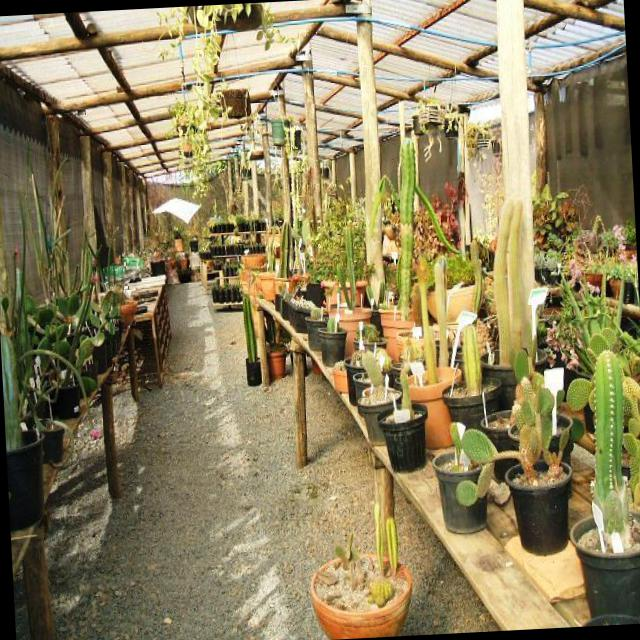cactus: (557, 276, 637, 411), (592, 350, 627, 540), (491, 196, 528, 366), (517, 387, 567, 476), (448, 419, 496, 506), (38, 322, 99, 383), (397, 137, 415, 319), (620, 378, 640, 508), (416, 268, 437, 384), (336, 225, 355, 312), (432, 255, 446, 366), (461, 324, 480, 392), (358, 350, 384, 394), (384, 515, 398, 578), (242, 295, 256, 357), (373, 496, 384, 573), (277, 219, 291, 279), (367, 572, 392, 605), (399, 368, 412, 416), (327, 315, 336, 333), (310, 306, 321, 316)
floor -X: (12, 248, 640, 640)
plant pot: (407, 365, 460, 449), (7, 436, 44, 527), (357, 386, 399, 443), (334, 306, 370, 356), (379, 313, 415, 360), (304, 316, 325, 349)
plant pot occlued: (308, 550, 411, 636), (570, 509, 640, 624), (505, 458, 571, 555), (434, 450, 485, 531), (376, 402, 428, 470), (444, 379, 498, 437), (319, 325, 347, 363), (56, 382, 78, 418), (245, 357, 260, 384)
plant pots: (479, 348, 546, 409)
plants: (312, 201, 368, 279)
shelf crop: (238, 271, 640, 626), (8, 311, 139, 640)
wall clock: (271, 46, 640, 428), (0, 58, 150, 531), (146, 159, 273, 261)
